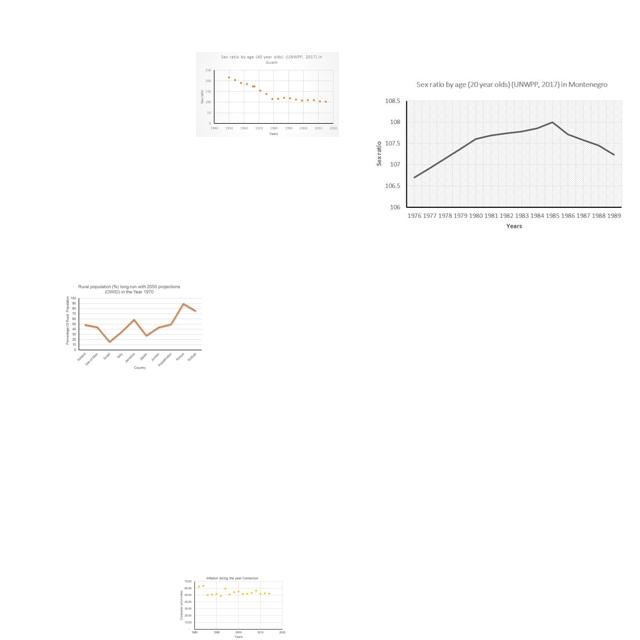Graph: (370, 79, 627, 234), (62, 282, 203, 372), (196, 52, 339, 137), (179, 576, 286, 639)
